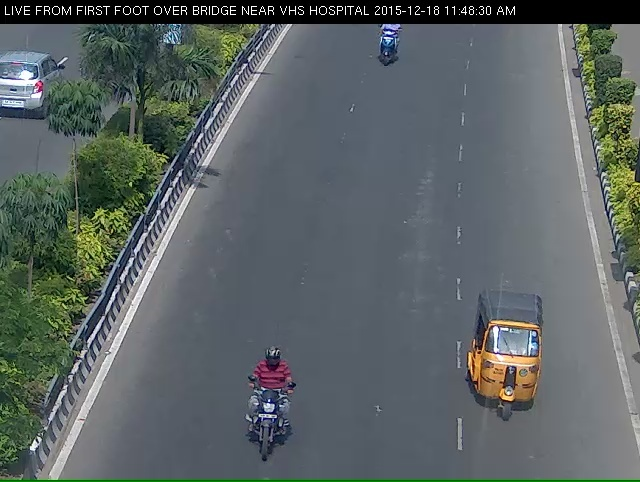Auto: (463, 302, 550, 443)
Person: (229, 382, 294, 478), (370, 25, 401, 76)
